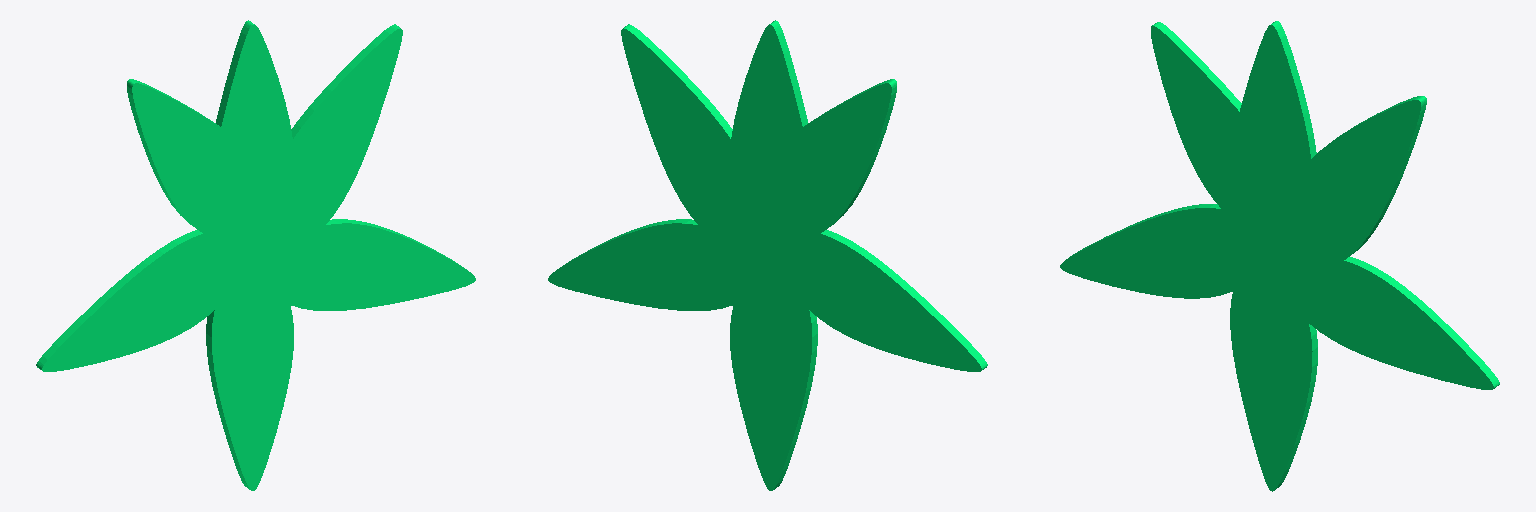
The robot description file, URDF, robot "strawberry":
<?xml version="1.0" encoding="utf-8"?>
<!-- This URDF was automatically created by SolidWorks to URDF Exporter! Originally created by [author] ([email redacted]) 
     Commit Version: 1.6.0-4-g7f85cfe  Build Version: 1.6.7995.38578
     For more information, please see http://wiki.ros.org/sw_urdf_exporter -->
<robot
  name="strawberry">
  <link
    name="base_link">
    <inertial>
      <origin
        xyz="0.032427 0.032122 0.03338"
        rpy="0 0 0" />
      <mass
        value="0.54932" />
      <inertia
        ixx="1.3326E-04"
        ixy="-6.1122E-11"
        ixz="-1.0858E-10"
        iyy="1.3326E-04"
        iyz="-2.5323E-9"
        izz="1.1616E-04" />
    </inertial>
    <visual>
      <origin
        xyz="0 0 0"
        rpy="0 0 0" />
      <geometry>
        <mesh
          filename="package://strawberry/meshes/base_link.STL"  scale="0.75 0.75 0.75"/>
      </geometry>
      <material
        name="strawberry_red">
        <color
          rgba="0.76863 0.20784 0.15294 1" />
      </material>
    </visual>
    <collision>
      <origin
        xyz="0 0 0"
        rpy="0 0 0" />
      <geometry>
        <mesh
          filename="package://strawberry/meshes/base_link.STL" scale="0.75 0.75 0.75"/>
      </geometry>
    </collision>
  </link>
  <link
    name="link1">
    <inertial>
      <origin
        xyz="-0.0017984 -0.00078541 0.051662"
        rpy="0 0 0" />
      <mass
        value="0.00069143" />
      <inertia
        ixx="5.8956E-08"
        ixy="3.1954E-10"
        ixz="1.1152E-14"
        iyy="4.7333E-08"
        iyz="5.7909E-14"
        izz="1.0617E-07" />
    </inertial>
    <visual>
      <origin
        xyz="0 0 0"
        rpy="0 0 0" />
      <geometry>
        <mesh
          filename="package://strawberry/meshes/link1.STL"  scale="0.75 0.75 0.75"/>
      </geometry>
      <material
        name="green_leaf">
        <color
          rgba="0.05098 0.98039 0.51373 1" />
      </material>
    </visual>
    <collision>
      <origin
        xyz="0 0 0"
        rpy="0 0 0" />
      <geometry>
        <mesh
          filename="package://strawberry/meshes/link1.STL"  scale="0.75 0.75 0.75"/>
      </geometry>
    </collision>
  </link>
  <joint
    name="joint1"
    type="fixed">
    <origin
      xyz="0.02751075 -0.00266205 0.02322675"
      rpy="1.5708 0 0" />
    <parent
      link="base_link" />
    <child
      link="link1" />
    <axis
      xyz="0 0 0" />
  </joint>
</robot>

--- Render facts (derived) ---
The picture shows the robot from 3 angles, left to right: view 1: azimuth 30°, elevation 25°; view 2: azimuth 150°, elevation 25°; view 3: azimuth 330°, elevation 25°; orthographic projection.
Model strawberry with 2 links and 1 joints (1 fixed), rooted at base_link, posed every joint at zero.
Visible links, largest first — view 1: link1; view 2: link1; view 3: link1.
Boxes of the visible links, <box> form: link1: <box>36,20,475,490</box>; link1: <box>548,20,987,490</box>; link1: <box>1060,21,1499,491</box>.
Size in the robot's own frame: 0.0331 by 0.0008 by 0.034 metres.
1 mesh visuals loaded from 2 distinct referenced files (1 binary STL); not drawn: 1 (reference not matched to a file when rendering).